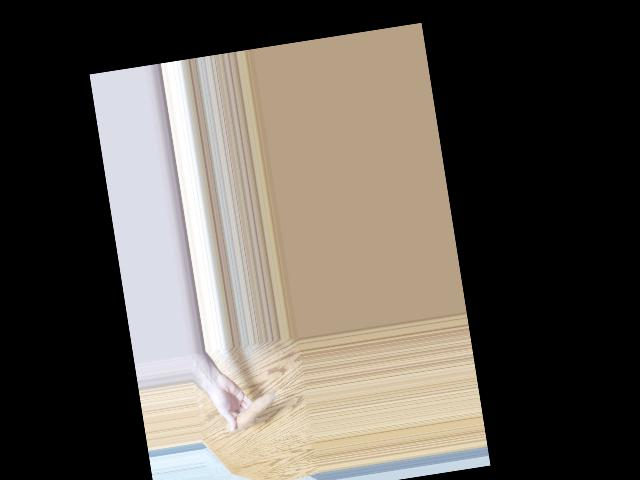sweet_potato: (220, 391, 279, 434)
